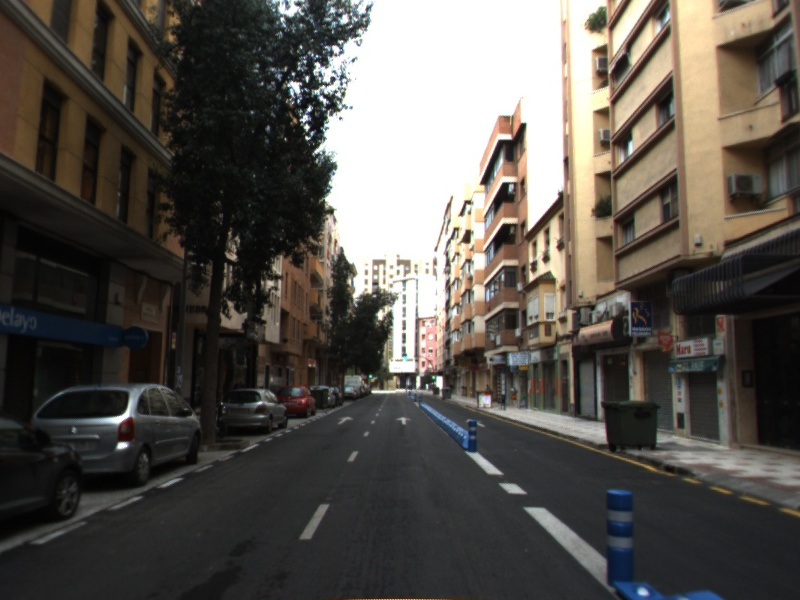STRAIGHT: (394, 415, 414, 426), (336, 415, 355, 426)
